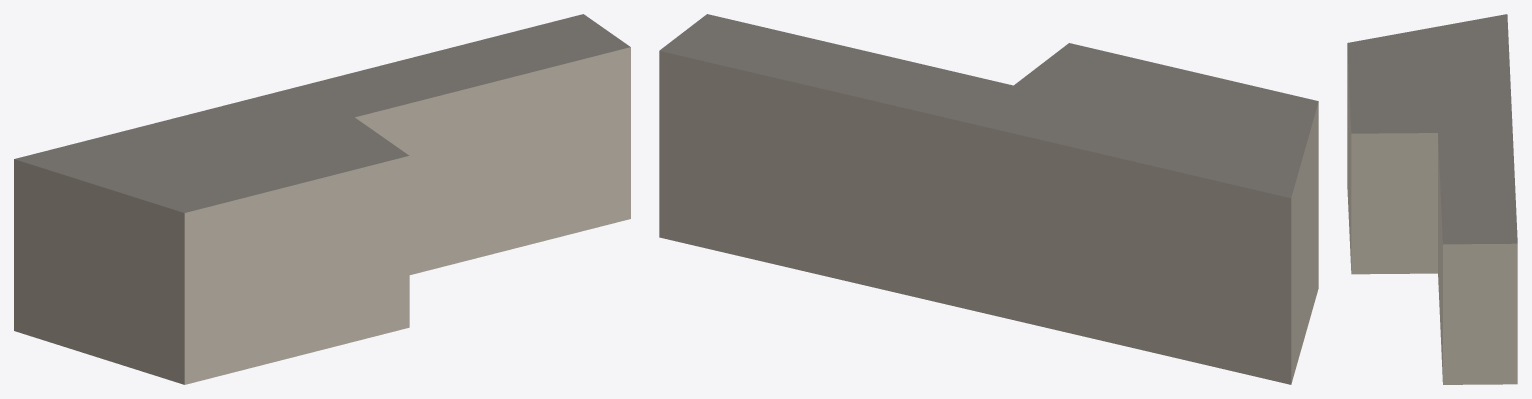
The picture shows the model from 3 angles, left to right: view 1: azimuth 30°, elevation 25°; view 2: azimuth 150°, elevation 25°; view 3: azimuth 270°, elevation 25°; orthographic projection. The views are drawn at different scales.
Visible parts, largest first — view 1: HP-w369317588; view 2: HP-w369317588; view 3: HP-w369317588.
Boxes of the visible parts, <box> form: HP-w369317588: <box>14,14,630,384</box>; HP-w369317588: <box>659,14,1318,384</box>; HP-w369317588: <box>1347,14,1517,384</box>.
Bounding box in the file's own units: 63.26 × 18 × 19.79.
